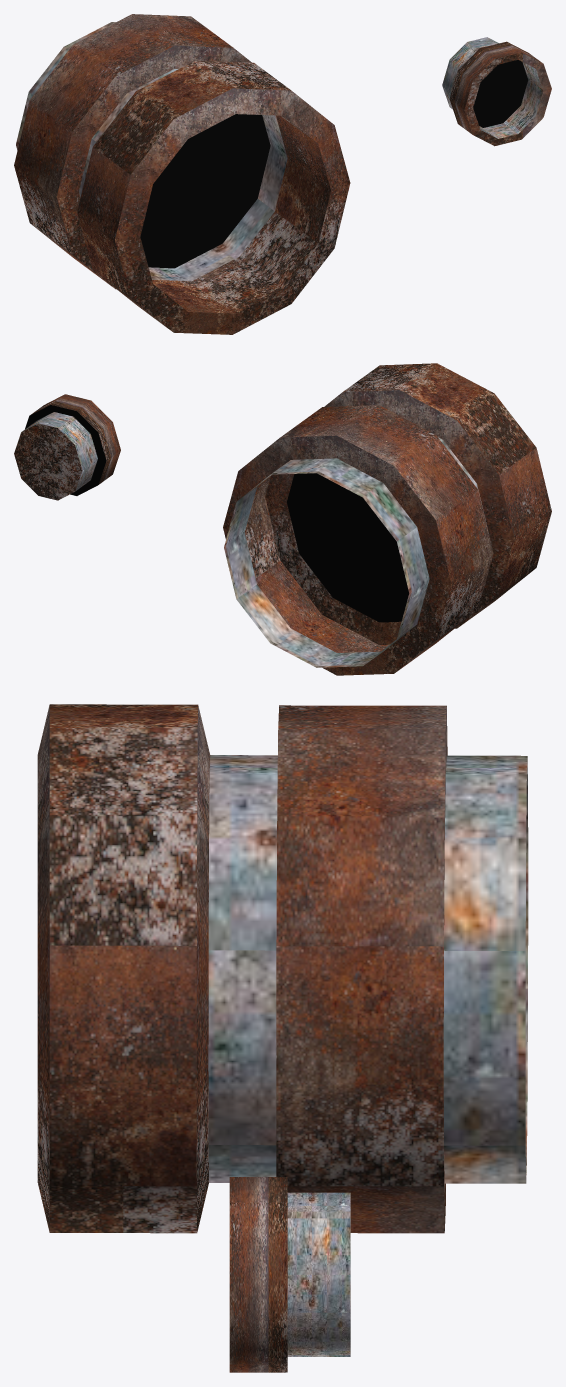
3 views of the same model, one above another, from view 1: azimuth 30°, elevation 25°; view 2: azimuth 150°, elevation 25°; view 3: azimuth 270°, elevation 25° (orthographic). The views are drawn at different scales.
Parts seen in each view (by area): view 1: Salida de tubería grande, Salida de tubería pequeña; view 2: Salida de tubería grande, Salida de tubería pequeña; view 3: Salida de tubería grande, Salida de tubería pequeña.
Part boxes in pixels (left/top/right/bottom): Salida de tubería grande: left=14, top=14, right=350, bottom=334; Salida de tubería pequeña: left=442, top=37, right=551, bottom=146; Salida de tubería grande: left=223, top=363, right=551, bottom=675; Salida de tubería pequeña: left=14, top=394, right=120, bottom=500; Salida de tubería grande: left=37, top=704, right=528, bottom=1233; Salida de tubería pequeña: left=229, top=1177, right=350, bottom=1372.
Size of the model in its own units: 1054 by 514 by 475.
